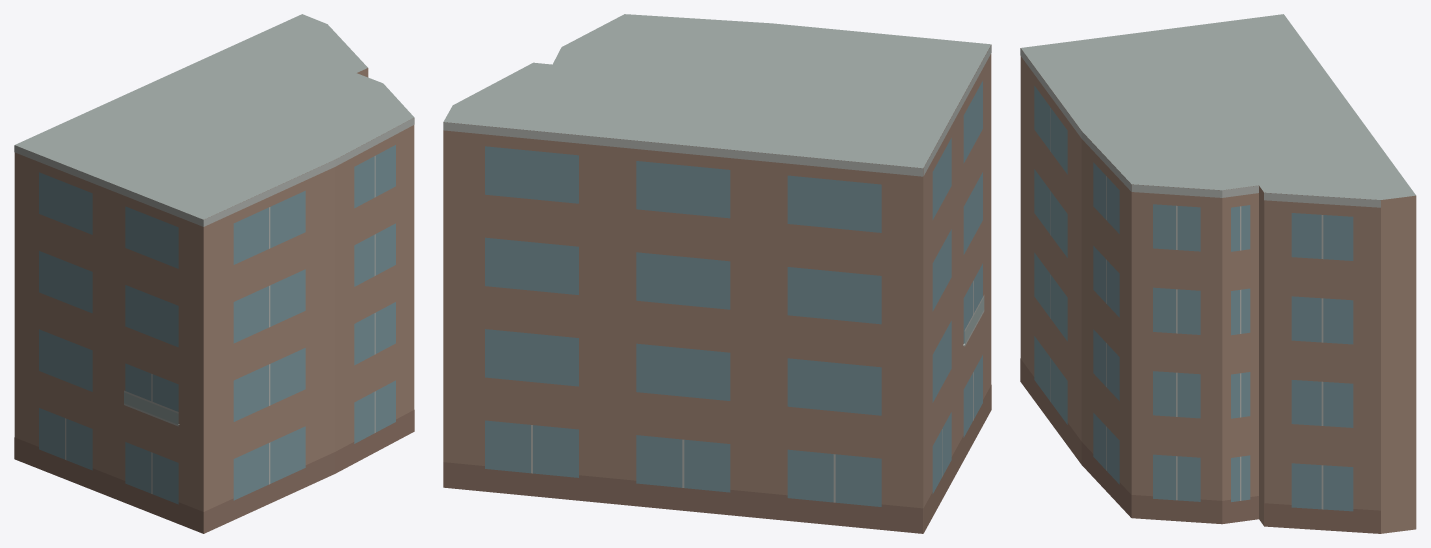
Rendered from survey-upis-33009710.glb.
The picture shows the model from 3 angles, left to right: view 1: azimuth 30°, elevation 25°; view 2: azimuth 150°, elevation 25°; view 3: azimuth 270°, elevation 25°; orthographic projection. The views are drawn at different scales.
Visible parts, largest first — view 1: survey-upis-33009710.tmp; view 2: survey-upis-33009710.tmp; view 3: survey-upis-33009710.tmp.
Part boxes in pixels (box(x1,y1,x2,y2)): survey-upis-33009710.tmp: box(14, 14, 414, 533); survey-upis-33009710.tmp: box(443, 14, 991, 533); survey-upis-33009710.tmp: box(1020, 14, 1416, 533).
Bounding box in the file's own units: 12.68 × 10.6 × 11.4.
